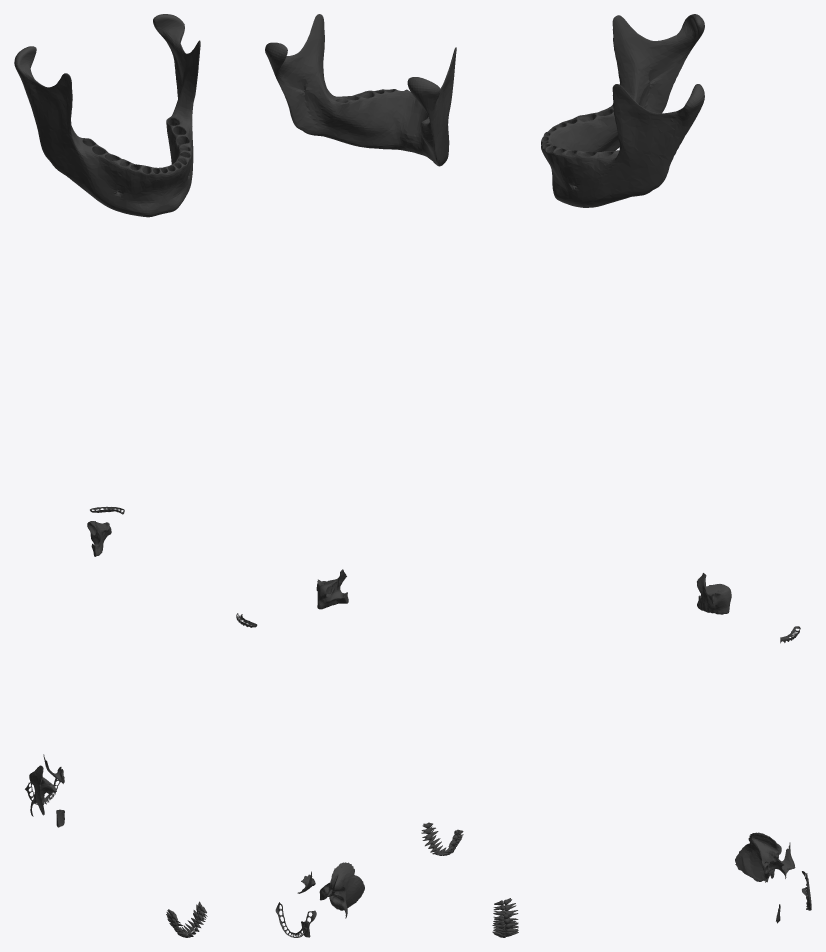
The model's file is sharedassets69.glb.
3 renders of one model, left to right at view 1: azimuth 30°, elevation 25°; view 2: azimuth 150°, elevation 25°; view 3: azimuth 270°, elevation 25°, orthographic. The views are drawn at different scales.
Parts seen in each view (by area): view 1: 0000_Mandible_dummy_001088, 0002_Temporal, L__001110, 0041_Maxilla, R_body_001078_004; view 2: 0000_Mandible_dummy_001088, 0002_Temporal, L__001110, 0041_Maxilla, R_body_001078_004; view 3: 0000_Mandible_dummy_001088, 0002_Temporal, L__001110, 0041_Maxilla, R_body_001078_004.
Boxes of the visible parts, box(x1,y1,x2,y2) form: 0000_Mandible_dummy_001088: box(14, 14, 200, 217); 0002_Temporal, L__001110: box(29, 765, 56, 816); 0041_Maxilla, R_body_001078_004: box(87, 521, 111, 556); 0000_Mandible_dummy_001088: box(265, 14, 456, 166); 0002_Temporal, L__001110: box(319, 862, 364, 918); 0041_Maxilla, R_body_001078_004: box(316, 569, 348, 609); 0000_Mandible_dummy_001088: box(541, 14, 704, 207); 0002_Temporal, L__001110: box(735, 832, 781, 882); 0041_Maxilla, R_body_001078_004: box(697, 573, 731, 614).
Size of the model in its own units: 0.1566 by 0.7461 by 0.2436.
1 material, 1 textured.
